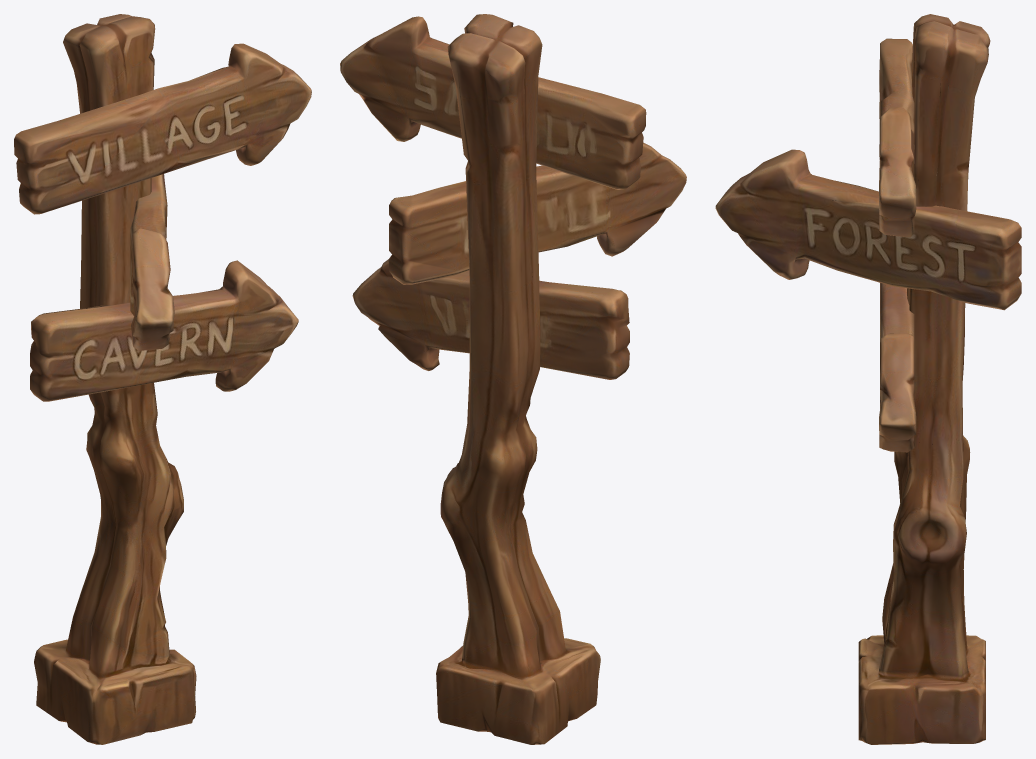
The model's file is signpost.glb.
3 renders of one model, left to right at view 1: azimuth 30°, elevation 25°; view 2: azimuth 150°, elevation 25°; view 3: azimuth 270°, elevation 25°, orthographic. The views are drawn at different scales.
Visible parts, largest first — view 1: geometry_0; view 2: geometry_0; view 3: geometry_0.
Part boxes in pixels (x1,y1,x2,y2): geometry_0: [14, 14, 311, 744]; geometry_0: [340, 14, 686, 744]; geometry_0: [715, 14, 1021, 744].
Size of the model in its own units: 0.4209 by 0.9517 by 0.3755.
1 material, 1 textured.
